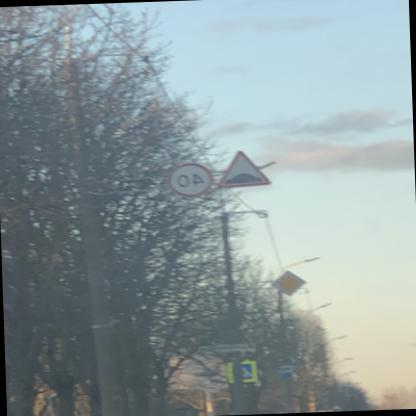crosswalk: (241, 360, 254, 377)
speedlimit: (172, 161, 216, 197)
